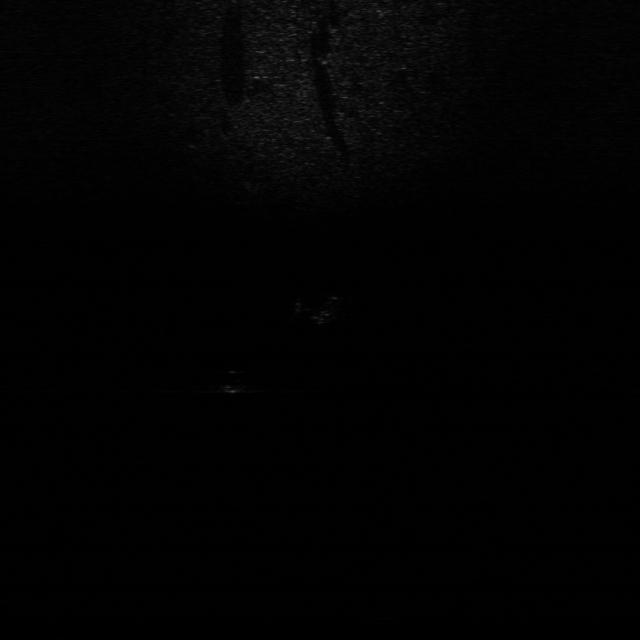ball: (210, 369, 250, 395)
human body: (297, 292, 344, 326)
